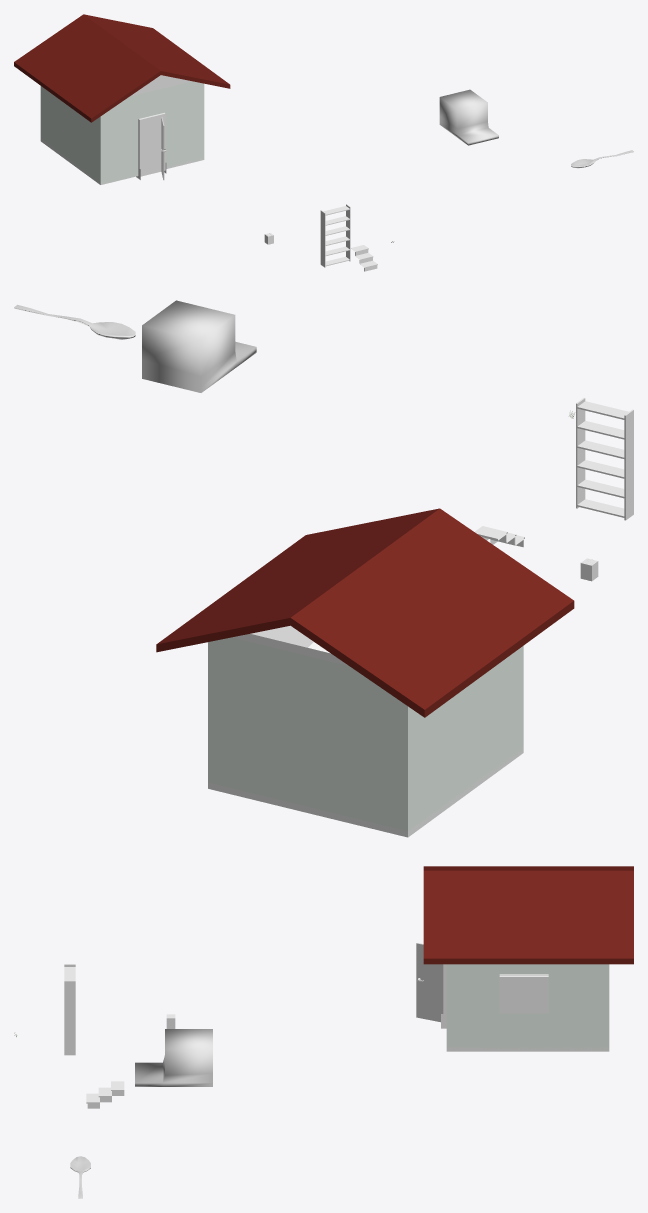
3 views of the same model, one above another, from view 1: azimuth 30°, elevation 25°; view 2: azimuth 150°, elevation 25°; view 3: azimuth 270°, elevation 25° (orthographic). The views are drawn at different scales.
Visible parts, largest first — view 1: Cube, Room, Cube.003, CTRL_Hole, Shelves1, Cube.001, Stairs; view 2: Cube, Room, Cube.003, Shelves1, Baseboard, Cube.001, Cube.002; view 3: Cube, Room, Cube.003, CTRL_Hole.001, Door, Shelves1, Baseboard, Stairs.
Part boxes in pixels (x1,y1,x2,y2): Cube: (14, 14, 230, 122); Room: (40, 81, 204, 184); Cube.003: (439, 89, 498, 145); CTRL_Hole: (138, 112, 165, 176); Shelves1: (320, 204, 350, 267); Cube.001: (130, 75, 191, 96); Stairs: (351, 245, 377, 271); Cube: (156, 508, 574, 717); Room: (208, 637, 523, 836); Cube.003: (142, 300, 256, 392); Shelves1: (576, 397, 633, 520); Baseboard: (208, 747, 523, 837); Cube.001: (232, 625, 348, 665); Cube.002: (14, 304, 135, 339); Cube: (423, 866, 633, 964); Room: (446, 964, 609, 1051); Cube.003: (135, 1029, 212, 1086); CTRL_Hole.001: (499, 974, 548, 1013); Door: (416, 943, 443, 1022); Shelves1: (64, 964, 75, 1055); Baseboard: (446, 1047, 609, 1051); Stairs: (86, 1081, 124, 1108).
Size of what is drawn, in the model's own units: 16.02 by 4.78 by 15.23.
Materials: 26 (2 with a texture image).
